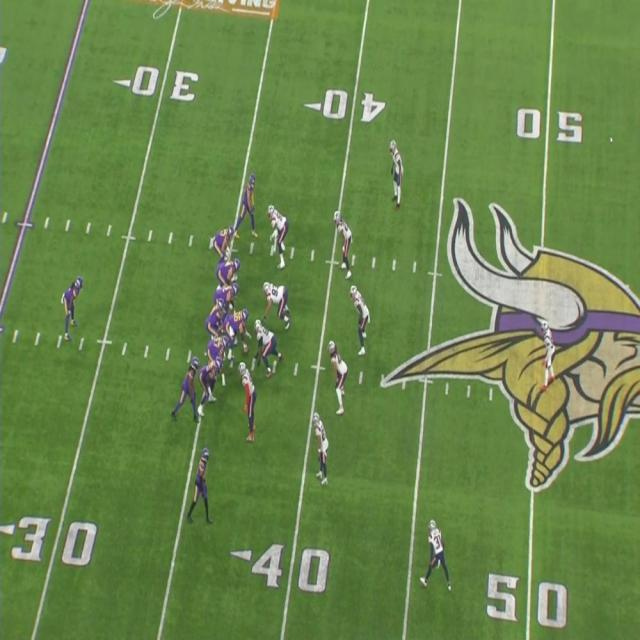center: (228, 307, 251, 355)
db: (427, 516, 448, 587), (316, 413, 330, 483), (392, 140, 405, 206), (546, 326, 558, 383)
lb: (330, 346, 348, 423), (353, 283, 371, 353), (334, 210, 352, 272)
qb: (206, 297, 226, 336)
skill: (239, 173, 260, 237), (193, 446, 211, 520), (62, 274, 83, 336), (178, 357, 198, 421), (213, 226, 236, 256)
